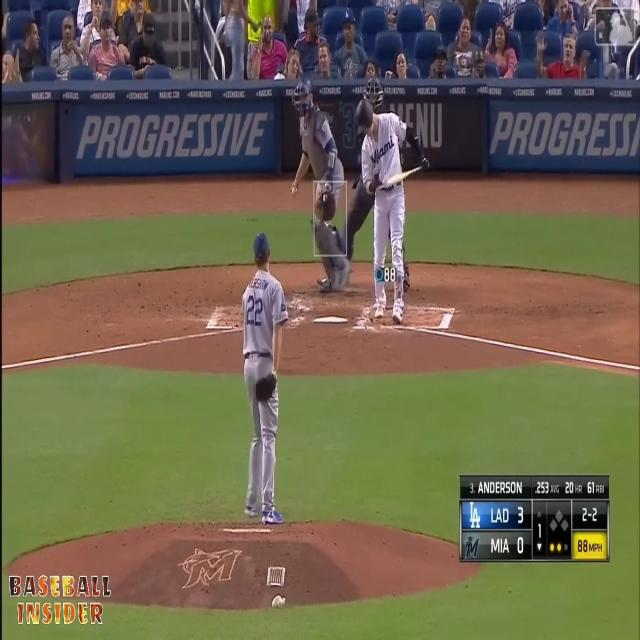baseball: (292, 185, 298, 198)
